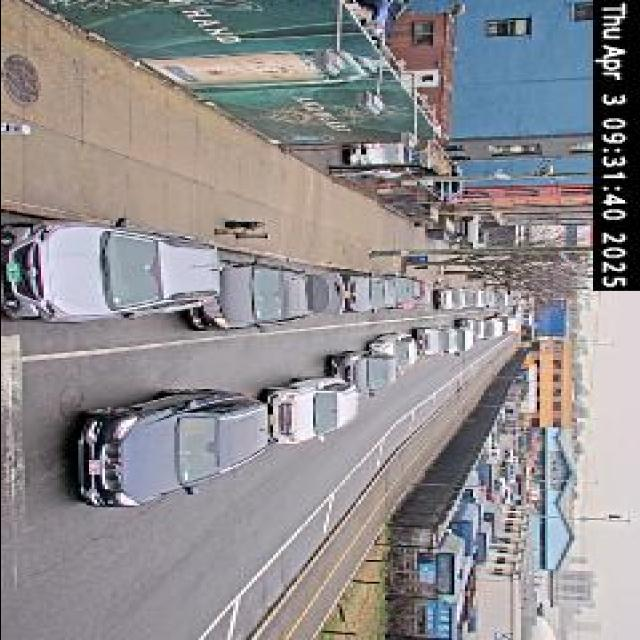open parking: (329, 268, 467, 322)
